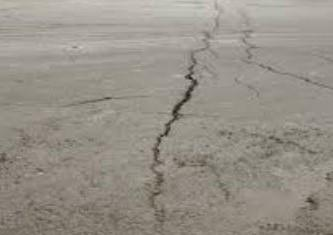crack: (149, 7, 213, 233), (237, 35, 333, 96)
